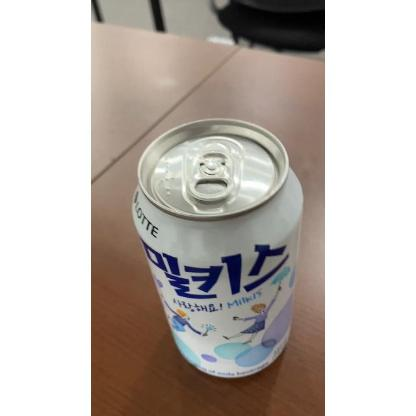Can: (132, 119, 304, 379)
